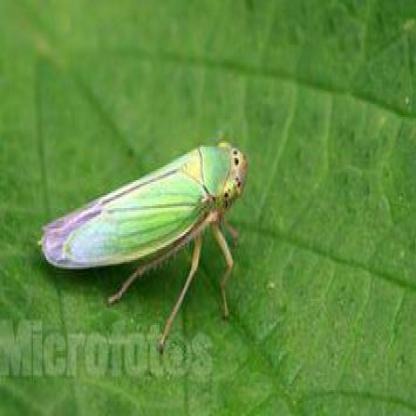Green-Leafhopper: (31, 132, 248, 358)
